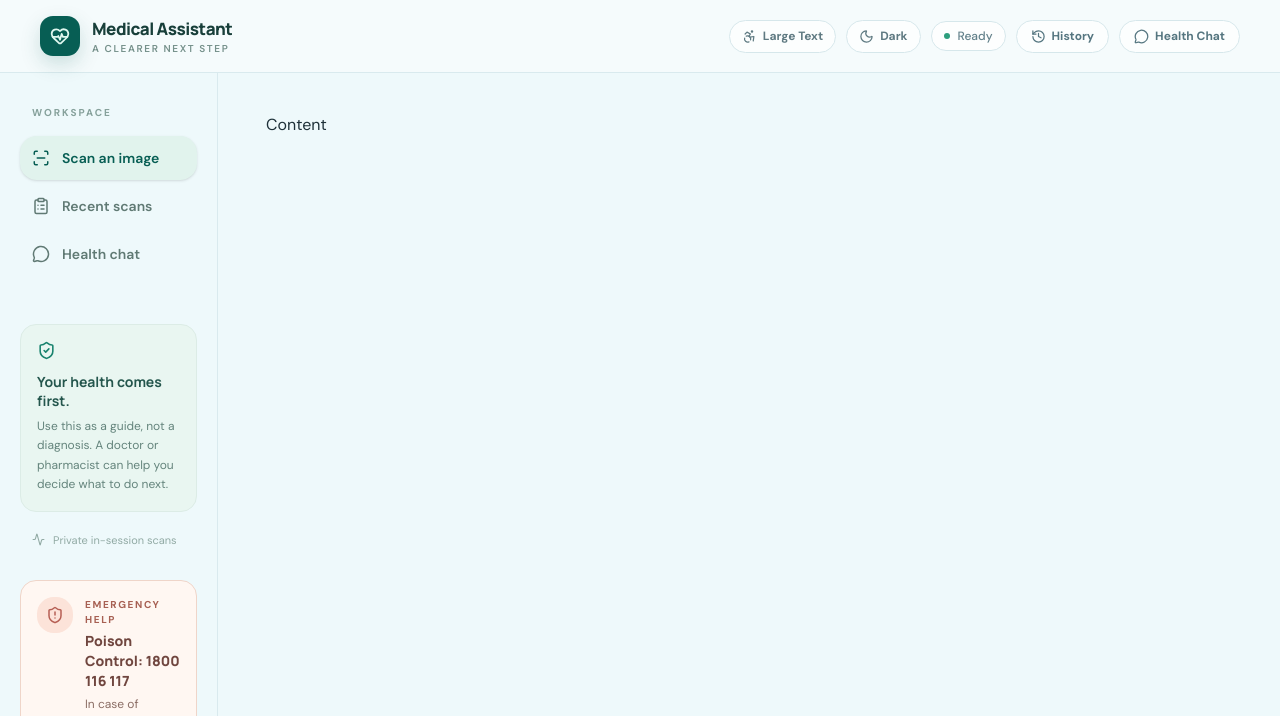
Scenario: Header icon buttons with labels and Dark mode toggle › toggles dark mode on click, updates DOM and persists to localStorage
// Click to enable dark mode
What coordinates should you click on to do the following:
click the button with test id "button-toggle-theme"
I would click on:
 (883, 36)
Its box is [846, 20, 920, 52].
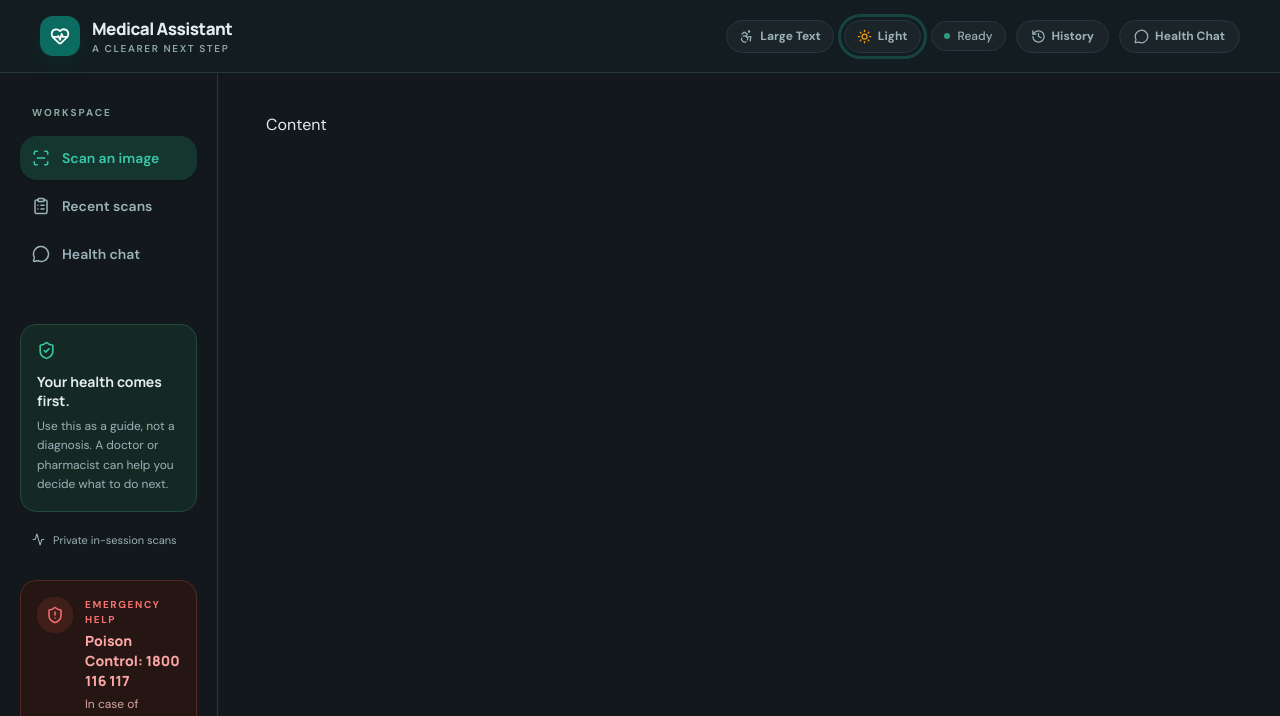
Now the button with test id "button-toggle-theme" reads "Light"
// Click to switch back to light mode
What coordinates should you click on to do the following:
click the button with test id "button-toggle-theme"
I would click on:
 (882, 36)
Its box is [844, 20, 921, 52].
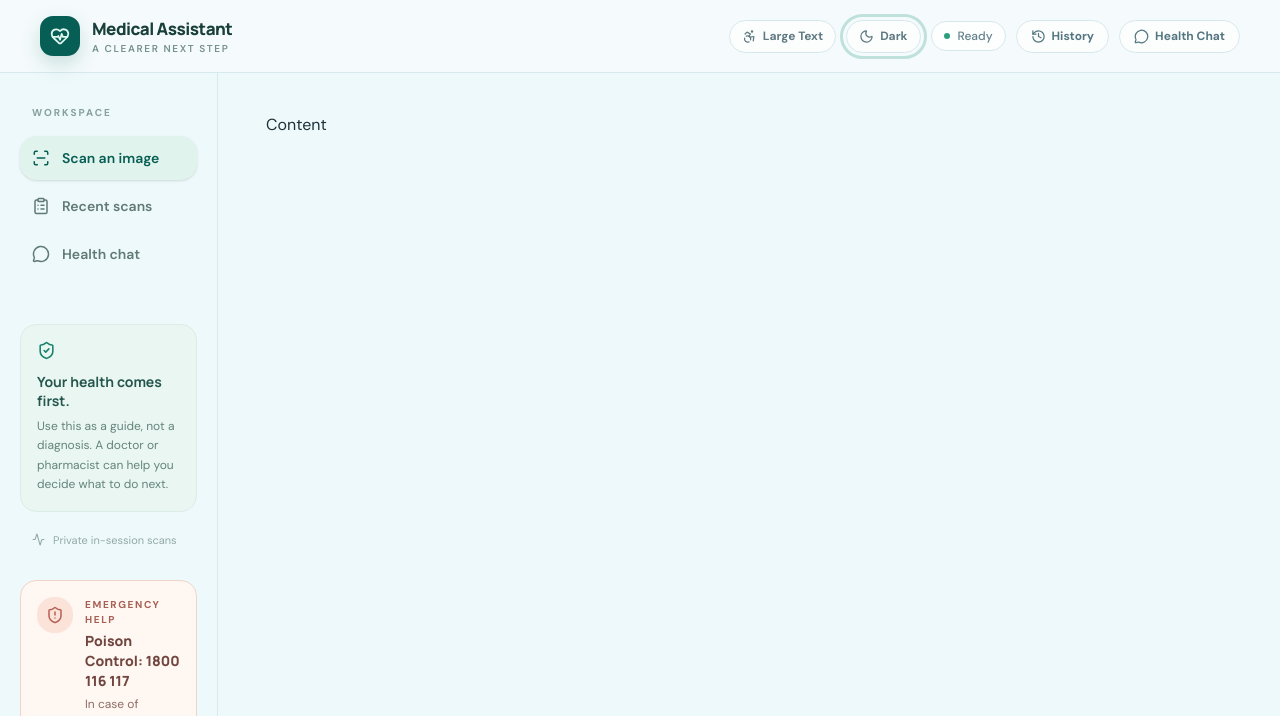
Now the button with test id "button-toggle-theme" reads "Dark", box [846, 20, 920, 52]
